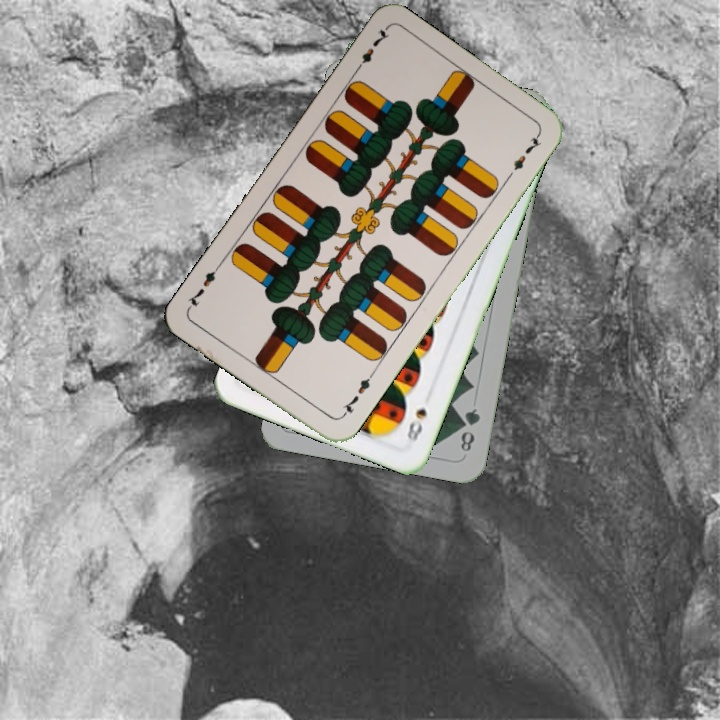E7: (350, 24, 392, 76), (337, 369, 377, 420)
G8: (456, 404, 483, 455)
S8: (403, 404, 430, 449)
